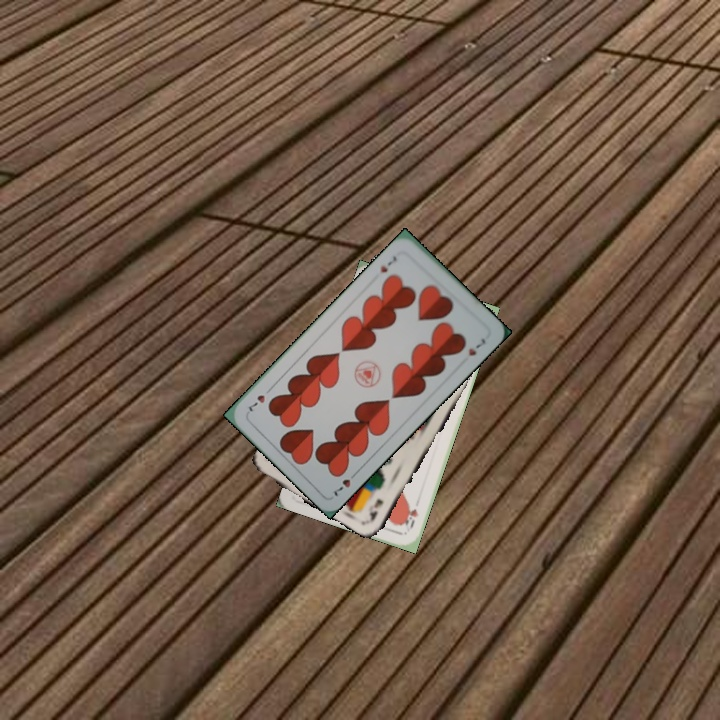EK: (365, 495, 386, 523)
H7: (330, 467, 361, 499), (376, 252, 400, 275)
HO: (401, 505, 421, 531)
